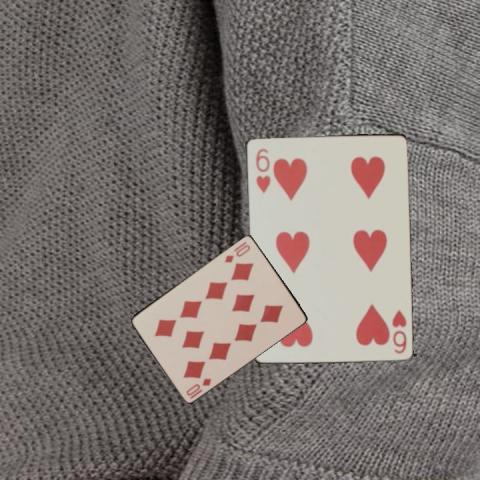10d: (221, 238, 252, 264), (184, 375, 214, 400)
6h: (389, 306, 408, 355), (253, 145, 271, 194)
